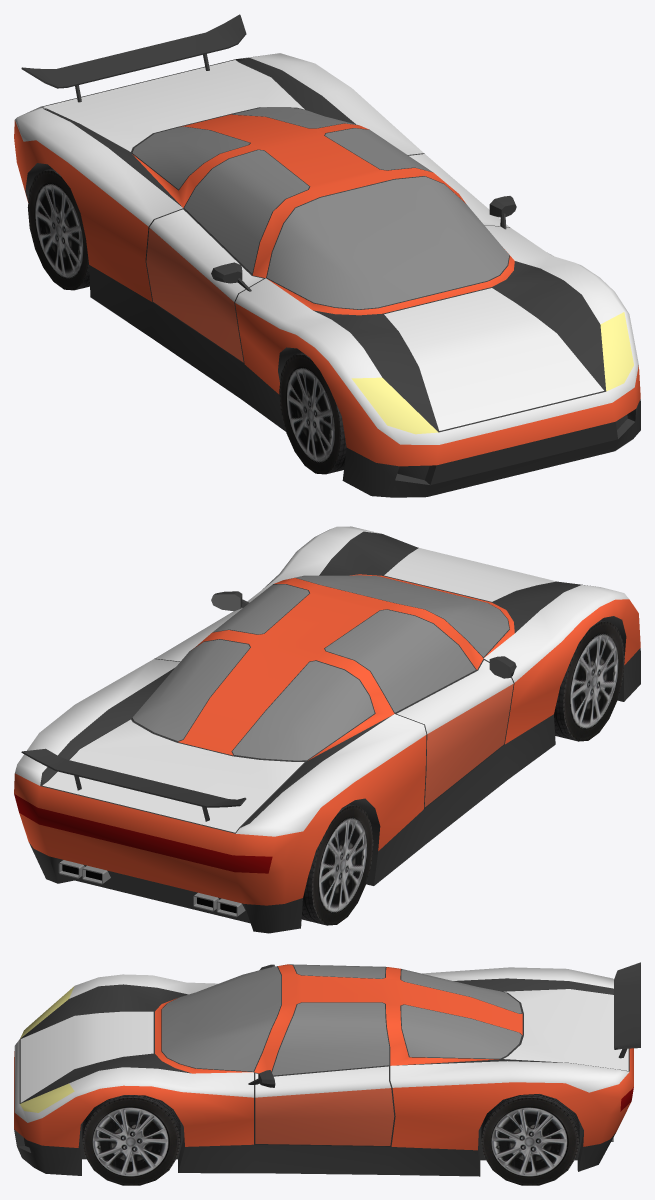
Rendered from car_12.FBX.
3 views of the same model, one above another, from view 1: azimuth 30°, elevation 25°; view 2: azimuth 150°, elevation 25°; view 3: azimuth 270°, elevation 25° (orthographic). The views are drawn at different scales.
Parts seen in each view (by area): view 1: Object005, Cylinder032, Cylinder029; view 2: Object005, Cylinder029, Cylinder032; view 3: Object005, Cylinder031, Cylinder030.
Part boxes in pixels (bbox=[...]): Object005: bbox=[14, 14, 640, 497]; Cylinder032: bbox=[279, 352, 346, 474]; Cylinder029: bbox=[27, 168, 89, 290]; Object005: bbox=[14, 526, 640, 933]; Cylinder029: bbox=[301, 803, 373, 925]; Cylinder032: bbox=[554, 619, 624, 741]; Object005: bbox=[14, 962, 640, 1176]; Cylinder031: bbox=[481, 1094, 579, 1185]; Cylinder030: bbox=[82, 1095, 180, 1185].
Size of the model in its own units: 2.14 by 1.22 by 4.88.
